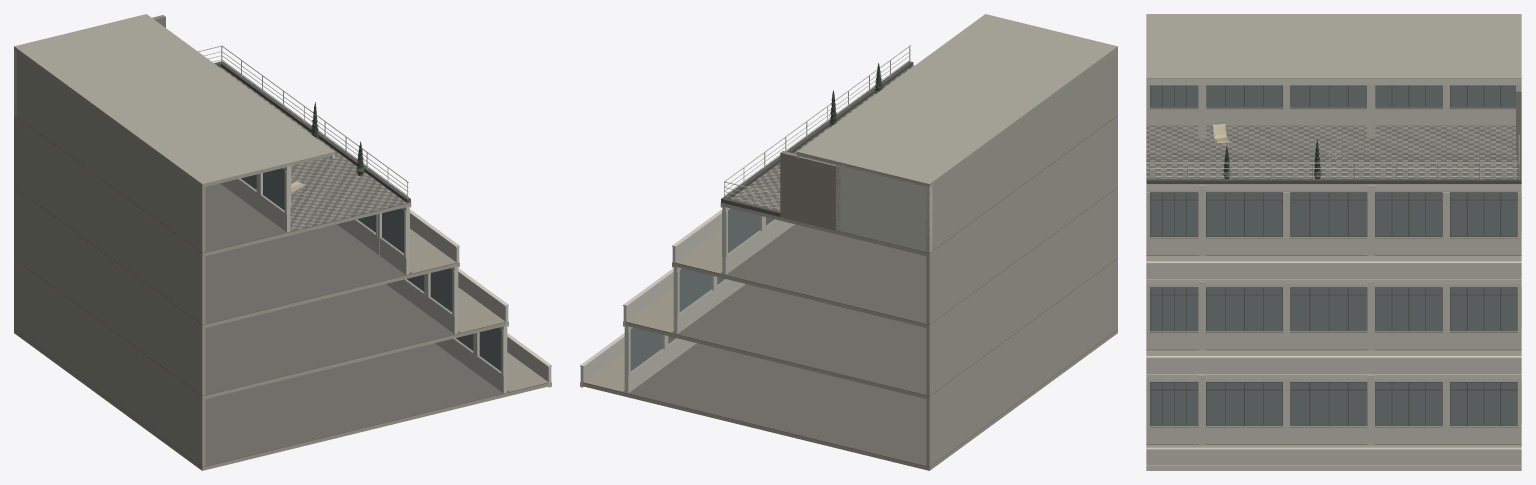
The model's file is changning-hongqiao-sanatorium-sun-terraces-web.glb.
The picture shows the model from 3 angles, left to right: view 1: azimuth 30°, elevation 25°; view 2: azimuth 150°, elevation 25°; view 3: azimuth 270°, elevation 25°; orthographic projection.
Parts seen in each view (by area): view 1: 虹桥疗养院的四层退台、方格晒台与弯管躺椅; view 2: 虹桥疗养院的四层退台、方格晒台与弯管躺椅; view 3: 虹桥疗养院的四层退台、方格晒台与弯管躺椅.
Part boxes in pixels (x1,y1,x2,y2): 虹桥疗养院的四层退台、方格晒台与弯管躺椅: [14, 14, 551, 470]; 虹桥疗养院的四层退台、方格晒台与弯管躺椅: [580, 14, 1117, 470]; 虹桥疗养院的四层退台、方格晒台与弯管躺椅: [1146, 14, 1521, 470].
Size of the model in its own units: 16.72 by 13.17 by 15.59.
24 materials, 1 textured.
